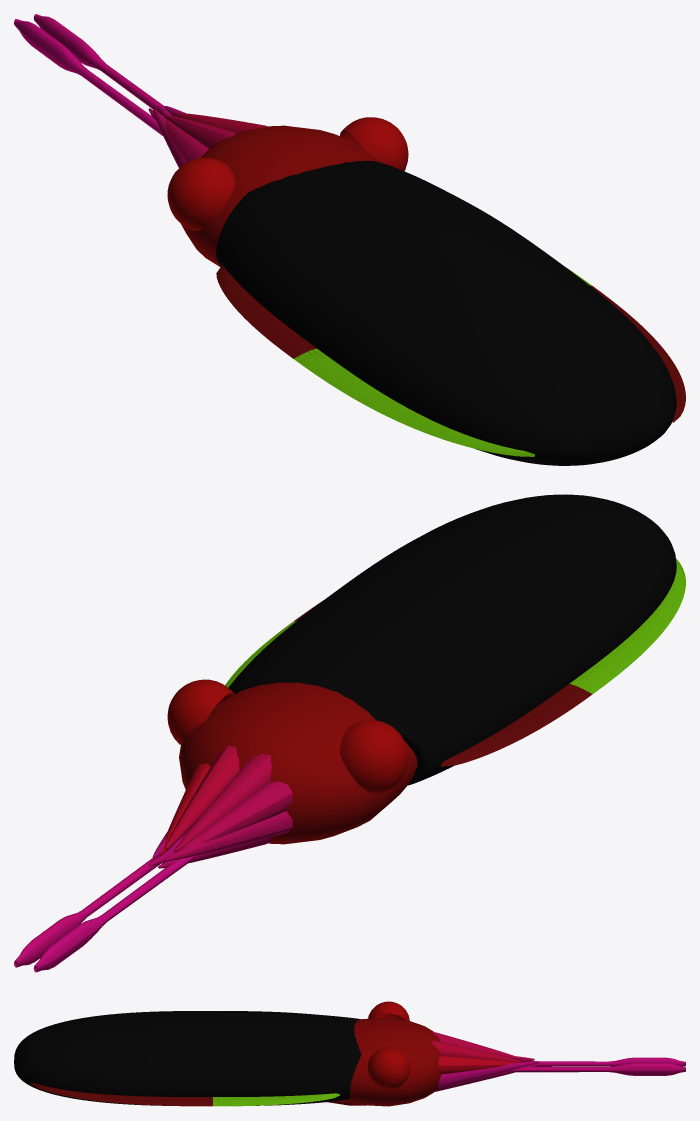
Rendered from cuttlefish.glb.
The picture shows the model from 3 angles, top to bottom: view 1: azimuth 30°, elevation 25°; view 2: azimuth 150°, elevation 25°; view 3: azimuth 270°, elevation 25°; orthographic projection. The views are drawn at different scales.
Parts seen in each view (by area): view 1: cuttlefish; view 2: cuttlefish; view 3: cuttlefish.
Part boxes in pixels (x1,y1,x2,y2): cuttlefish: [14, 14, 685, 465]; cuttlefish: [14, 494, 685, 972]; cuttlefish: [14, 1001, 685, 1106].
Bounding box in the file's own units: 0.1515 × 0.0681 × 0.52.
